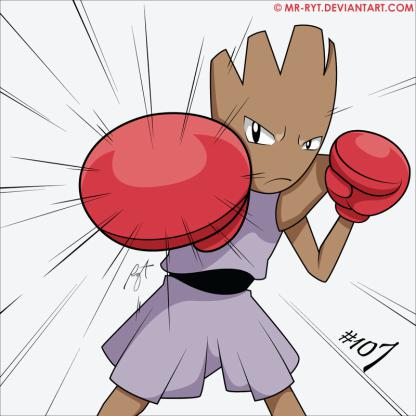Hitmonchan: (59, 22, 406, 416)
